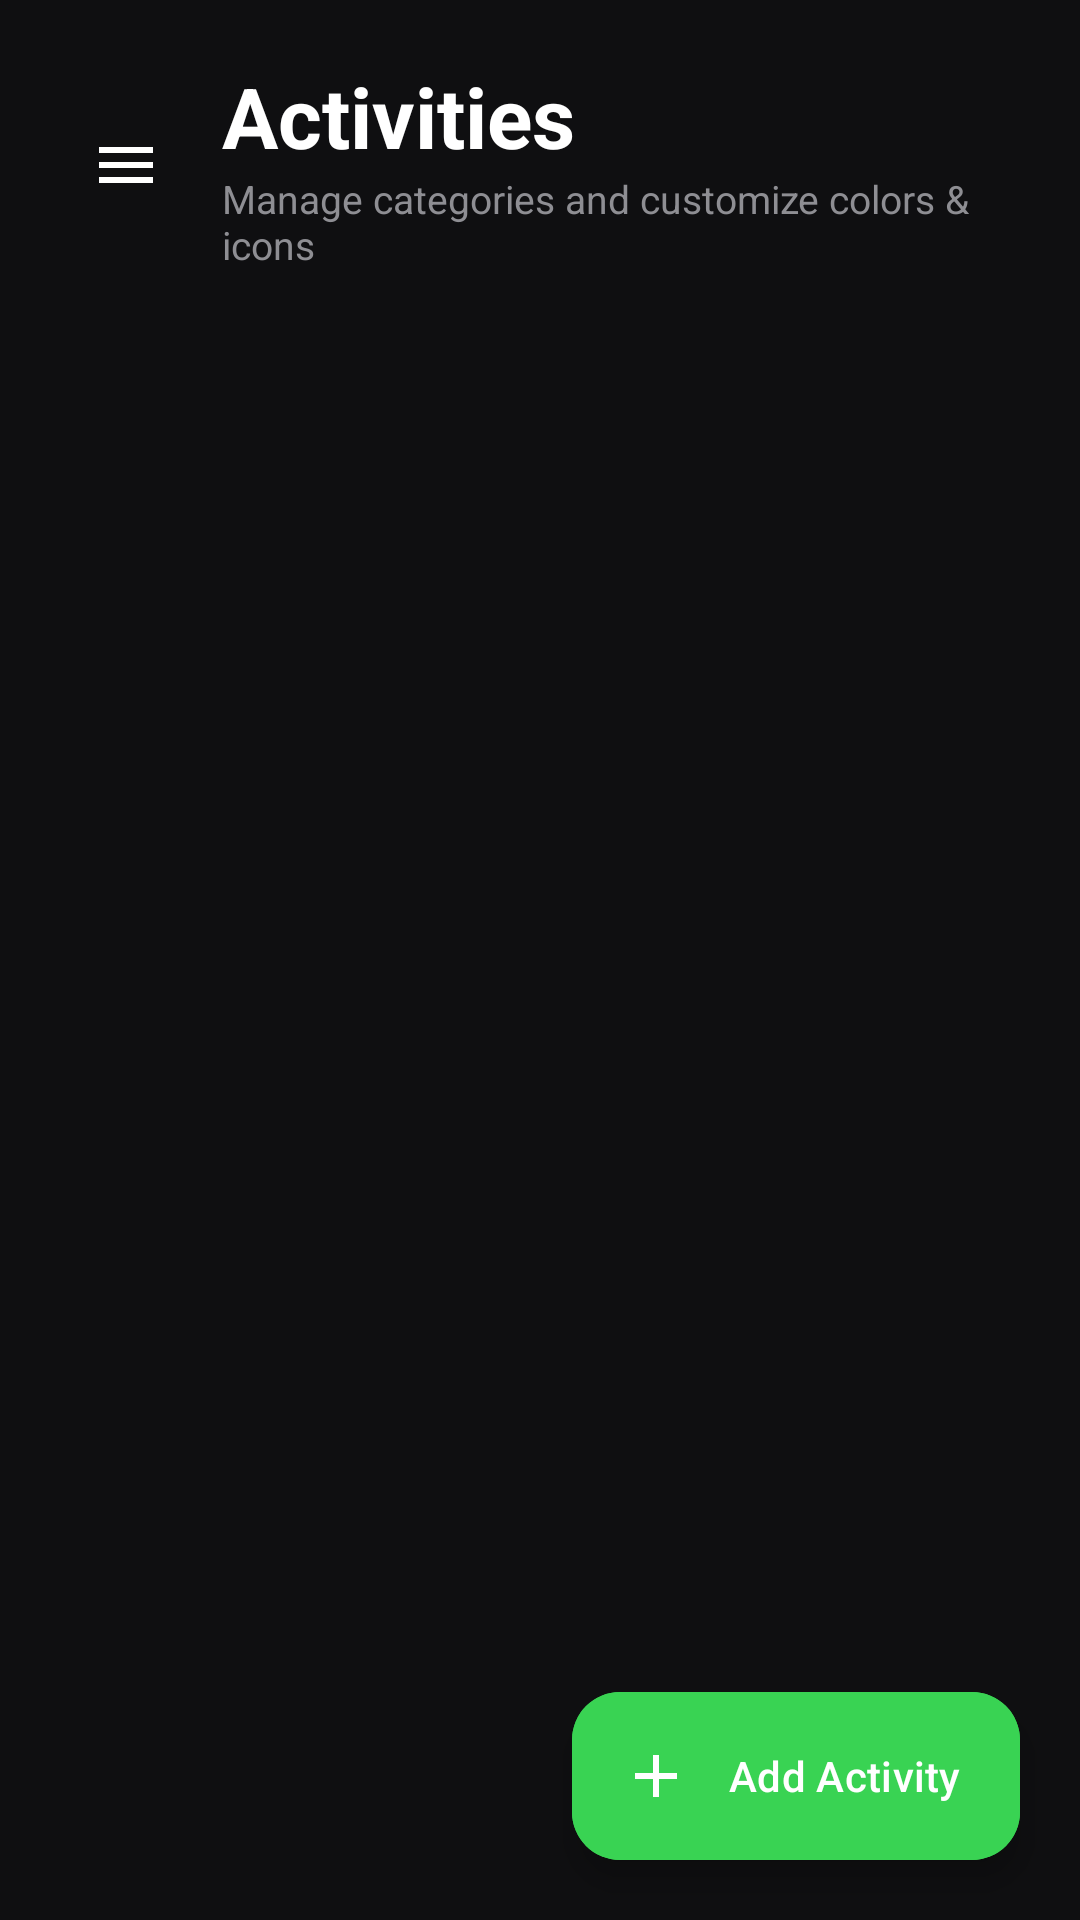

Where icons sit on this 1080 × 1920 app screen, as rect(x1, y1, x2, y2):
menu: rect(99, 147, 153, 183)
